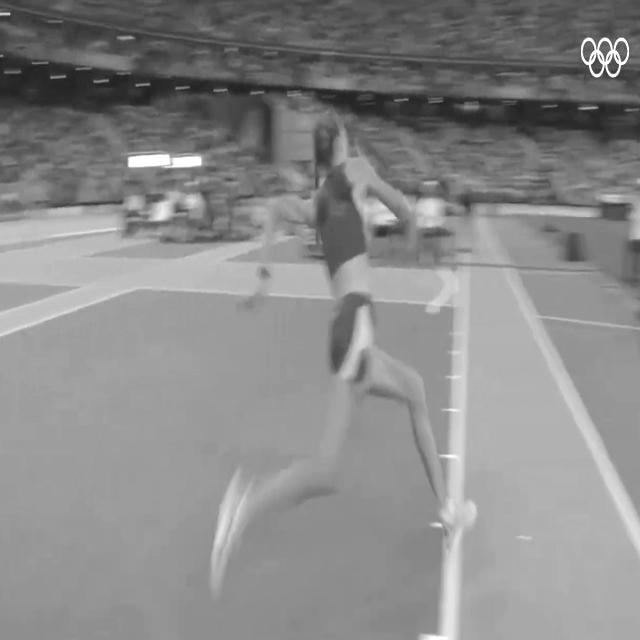run: (209, 98, 474, 636)
